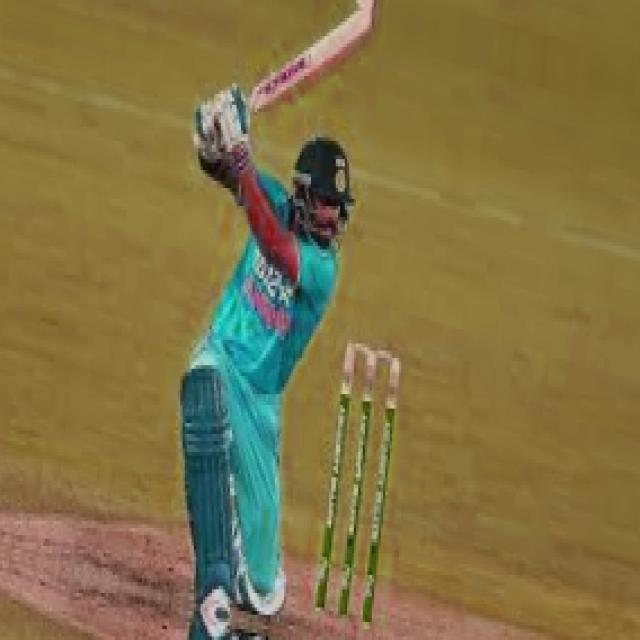bat: (250, 0, 387, 108)
toe: (362, 0, 378, 32)
